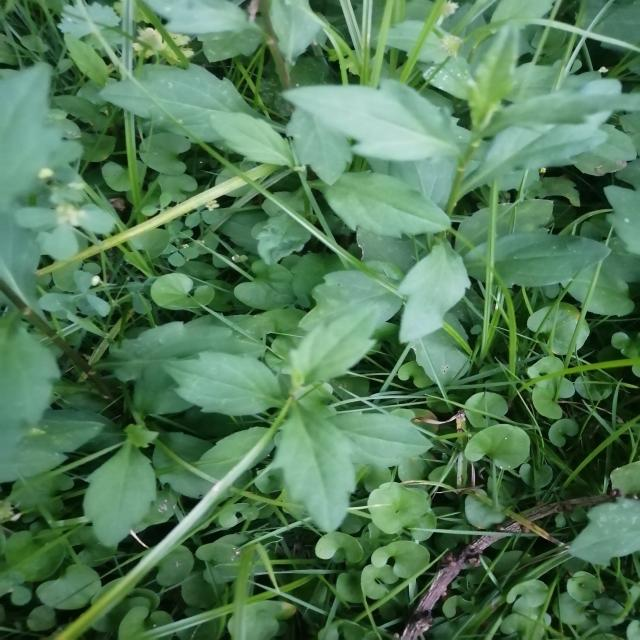Indian aster: (308, 48, 603, 291), (190, 308, 453, 504)
